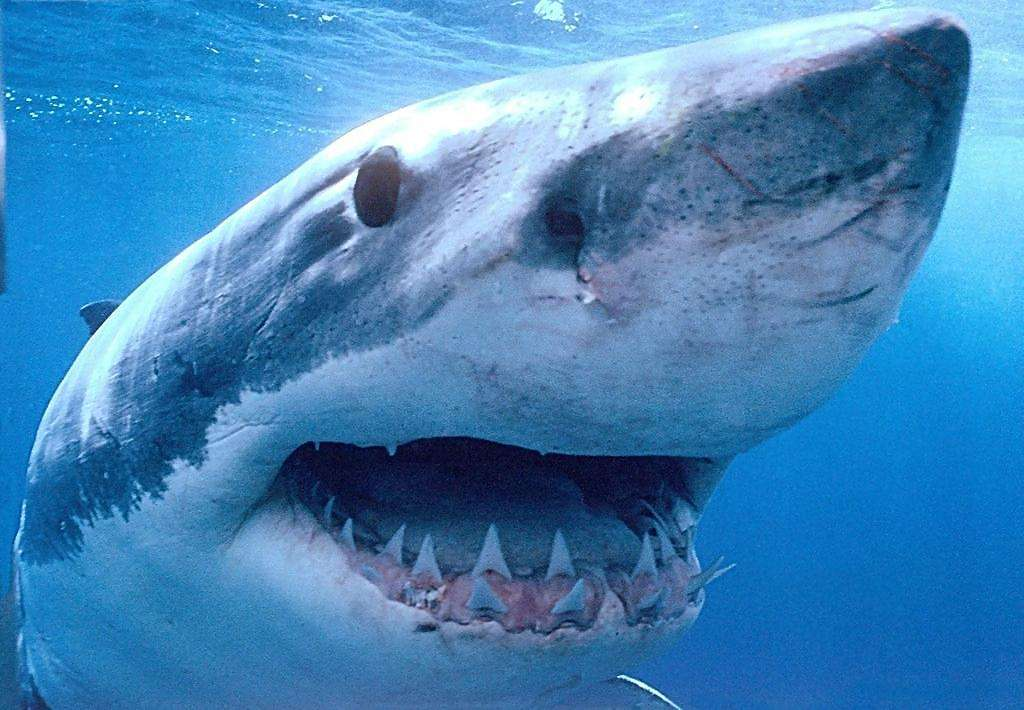shark: (11, 9, 966, 710)
